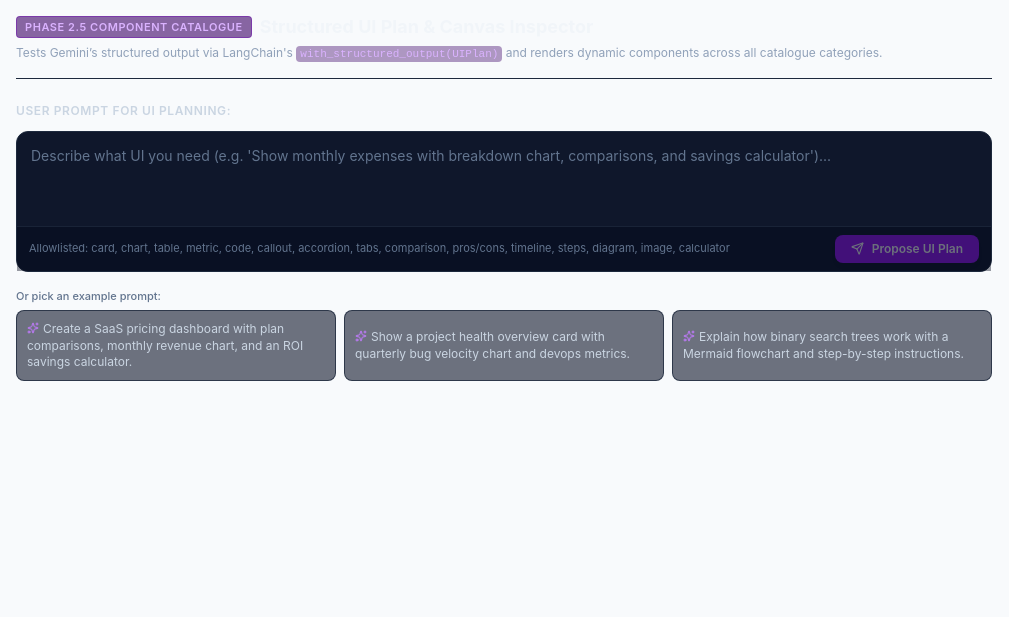
Test: UIPlanInspector Component › resets inspector state when clicking Reset
This screenshot has width=1009, height=617.
Replace the text in the text box with test id "plan-prompt-input" with "Some prompt" at (504, 176), box left=17, top=132, right=991, bottom=220
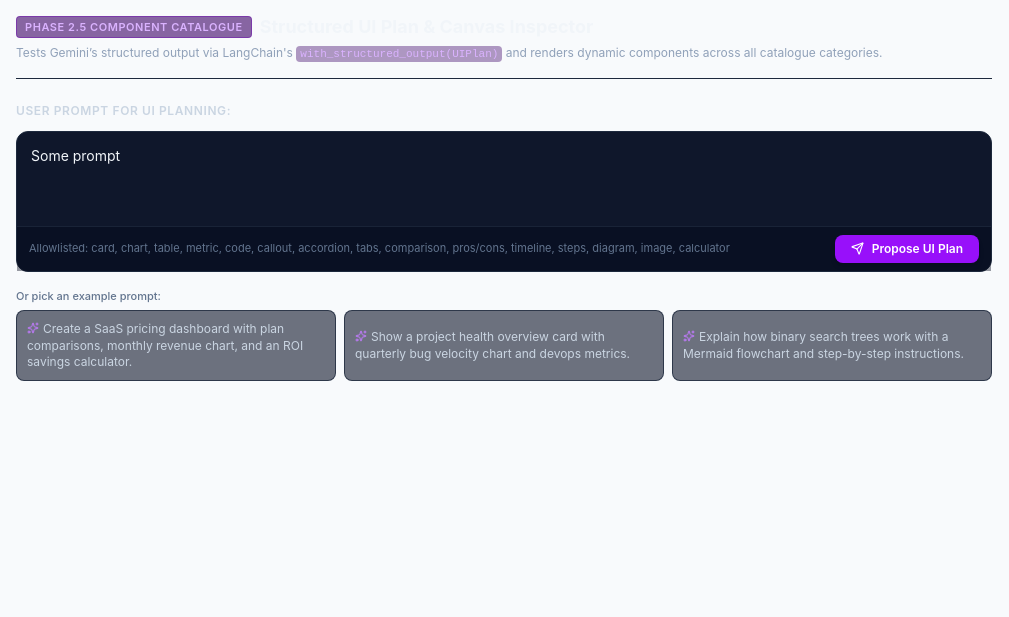
Click the button with test id "generate-plan-button" at (907, 249), box left=835, top=235, right=979, bottom=263
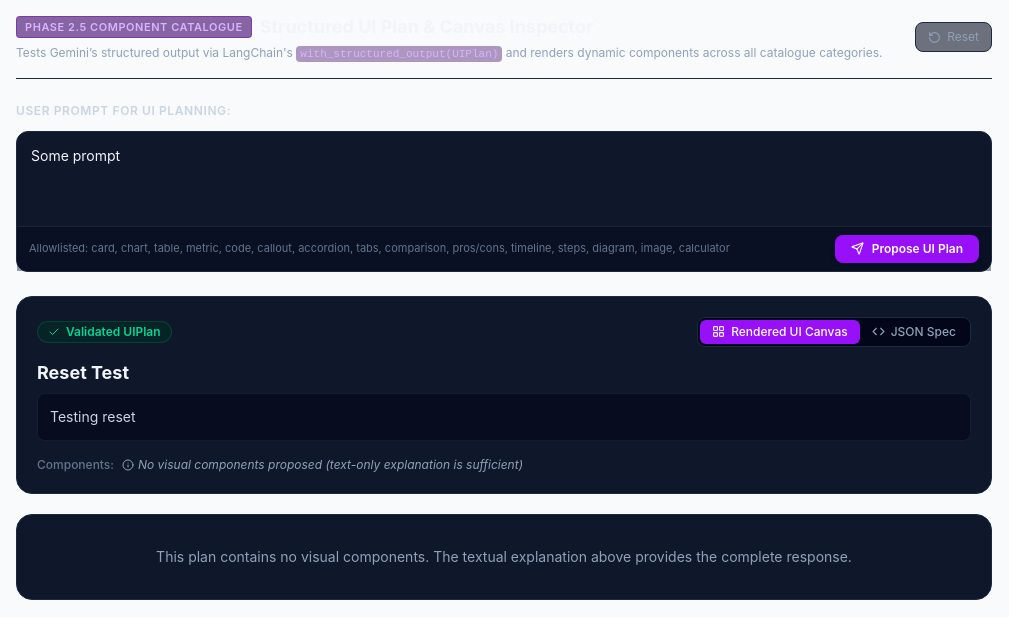
Now the heading "Reset Test" is shown, box left=37, top=362, right=129, bottom=383
Click the button with test id "reset-plan-button" at (954, 37), box left=915, top=22, right=992, bottom=52
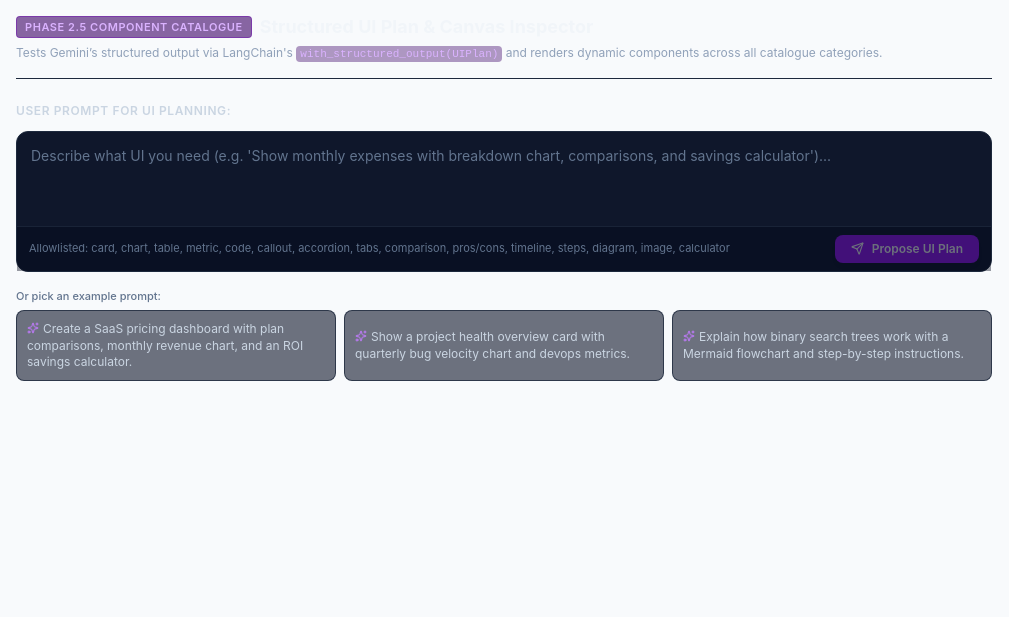
Now the heading with test id "plan-title" is gone
Now the text box with test id "plan-prompt-input" is empty, box left=17, top=132, right=991, bottom=220
